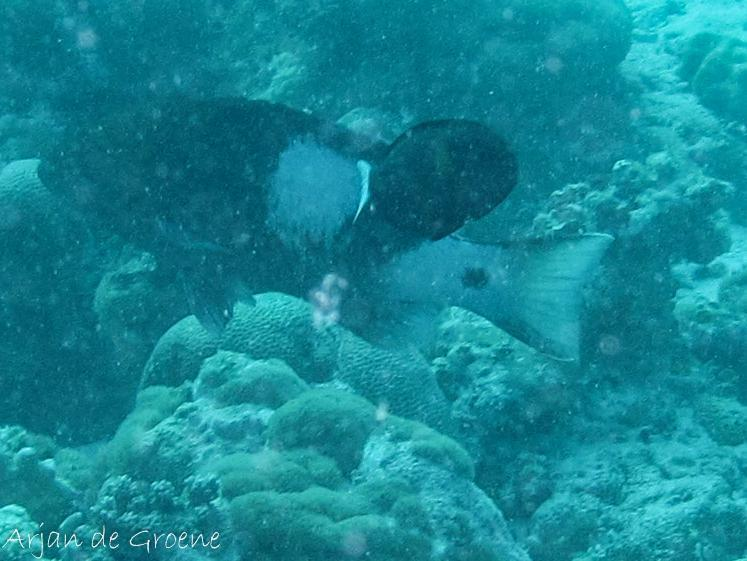Fish: (29, 76, 614, 380)
